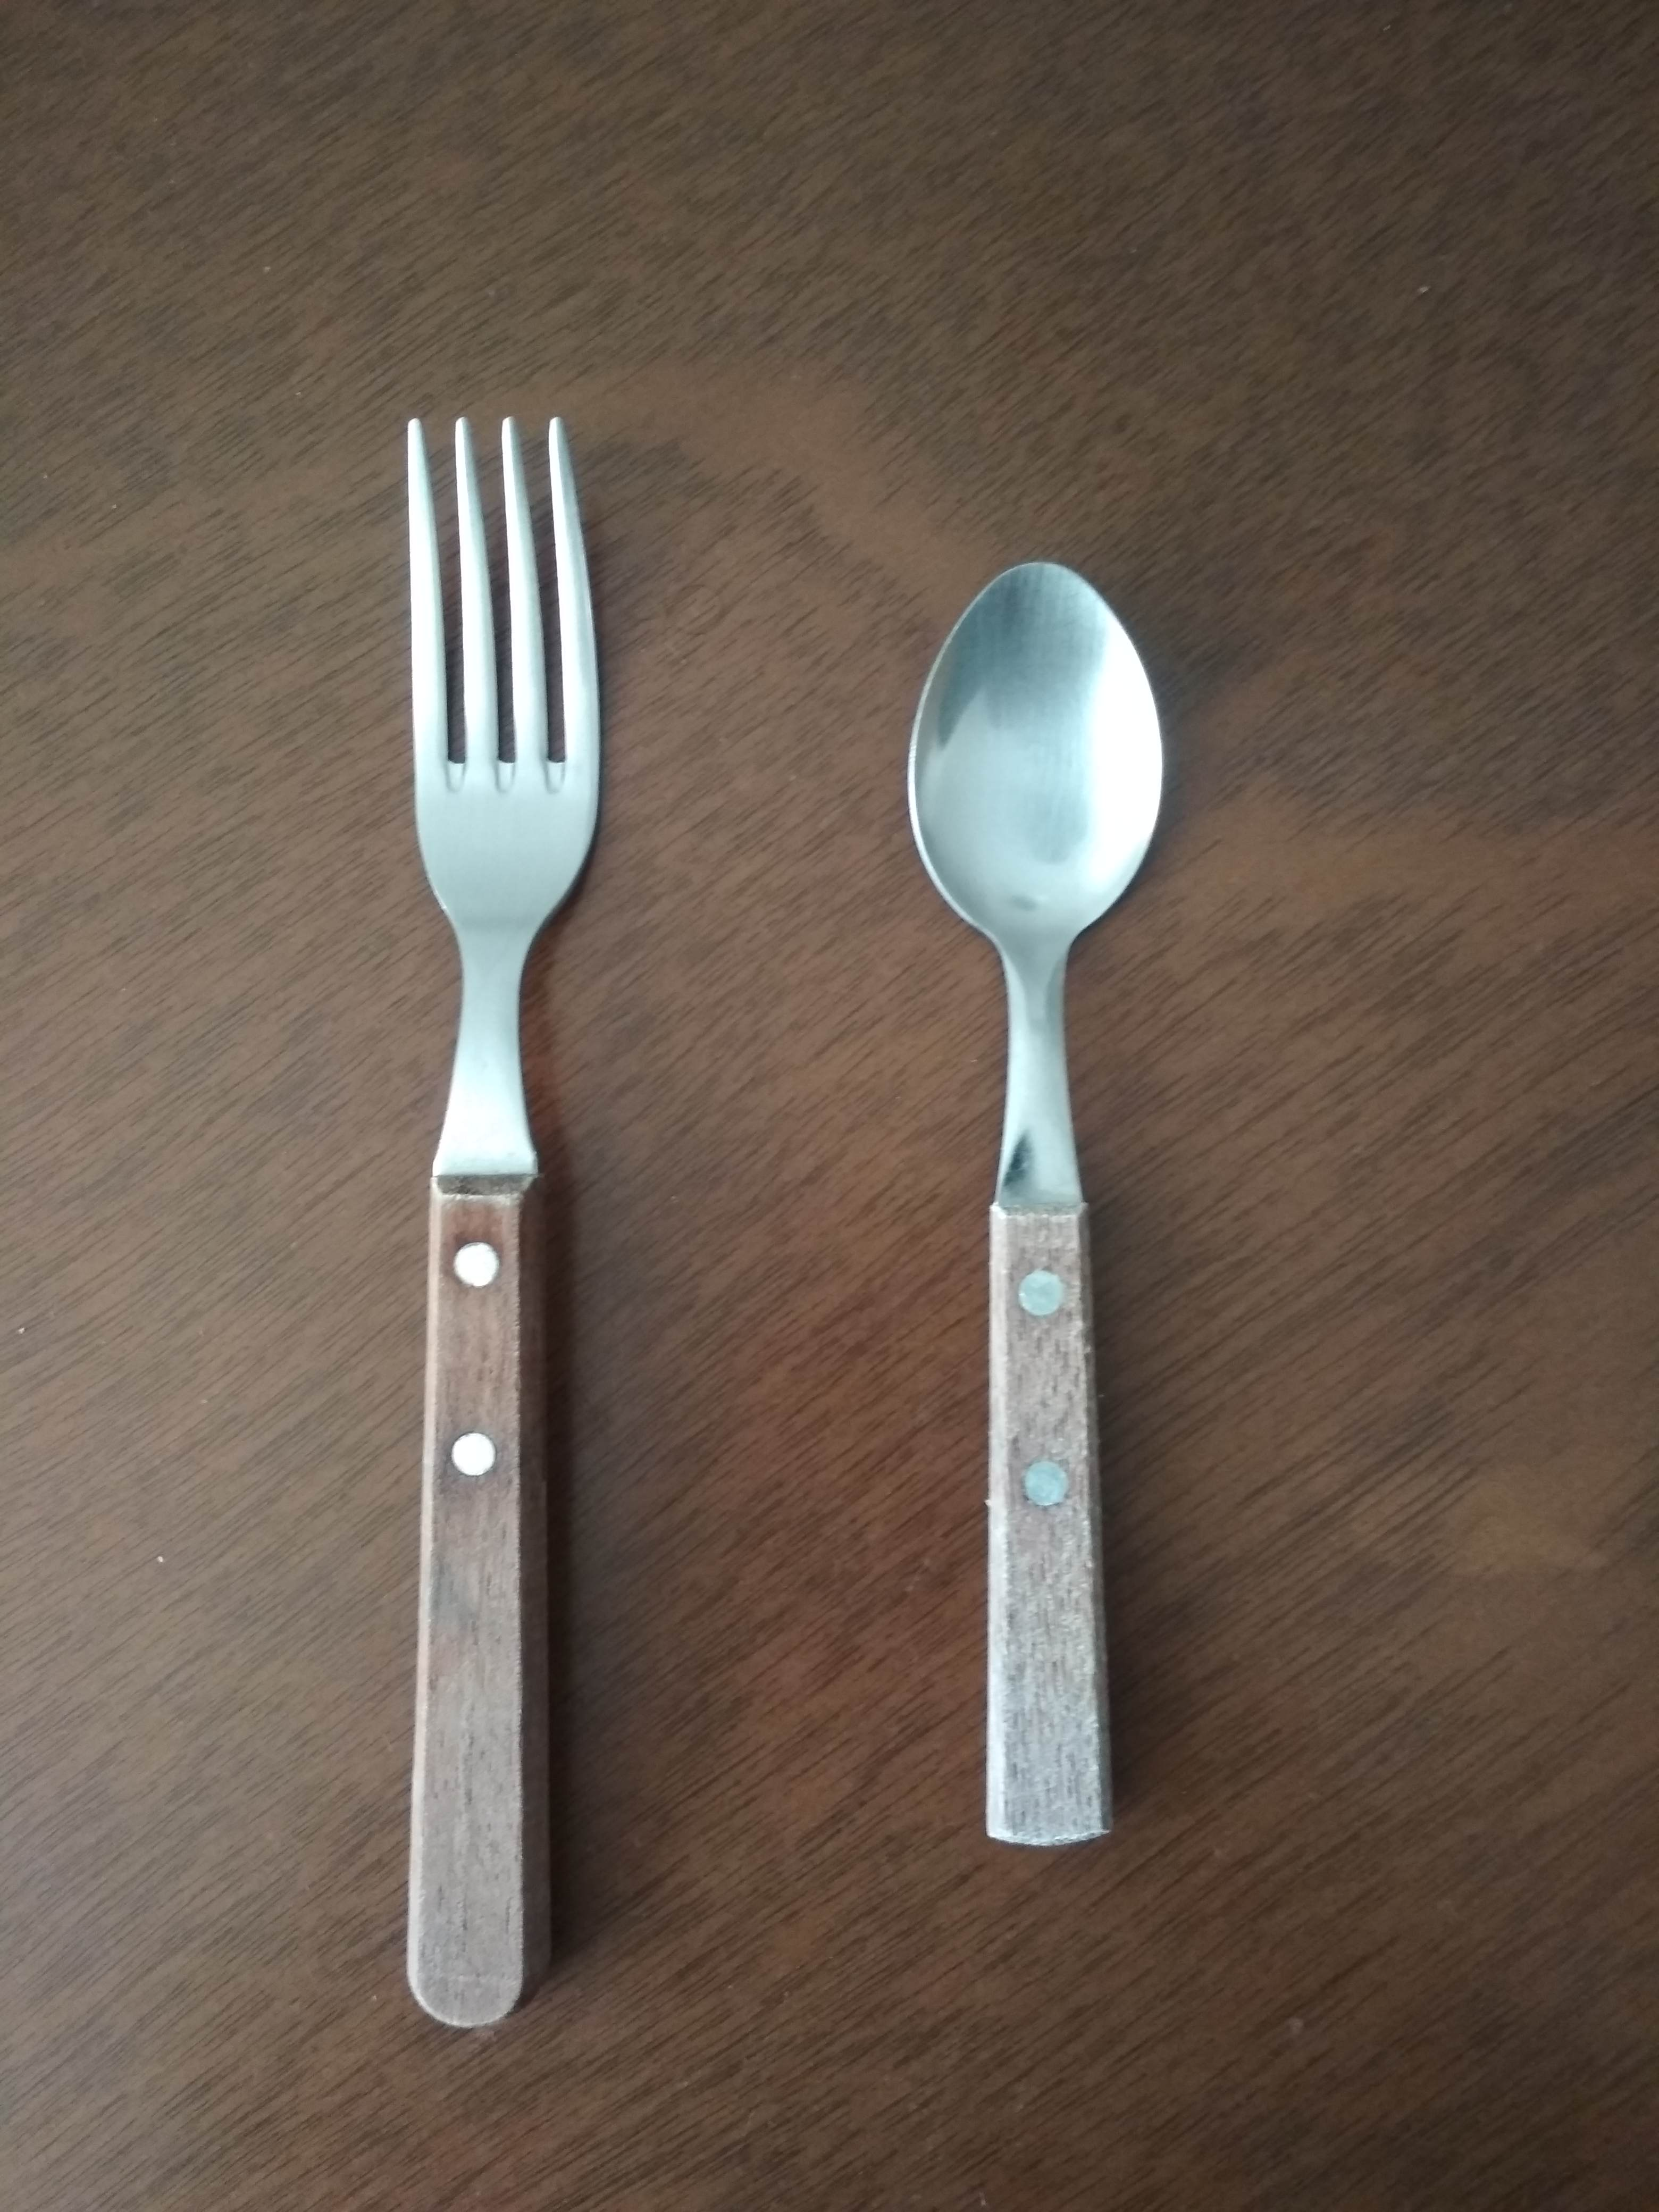fork: (349, 378, 638, 2055)
spoon: (877, 528, 1185, 1879)
